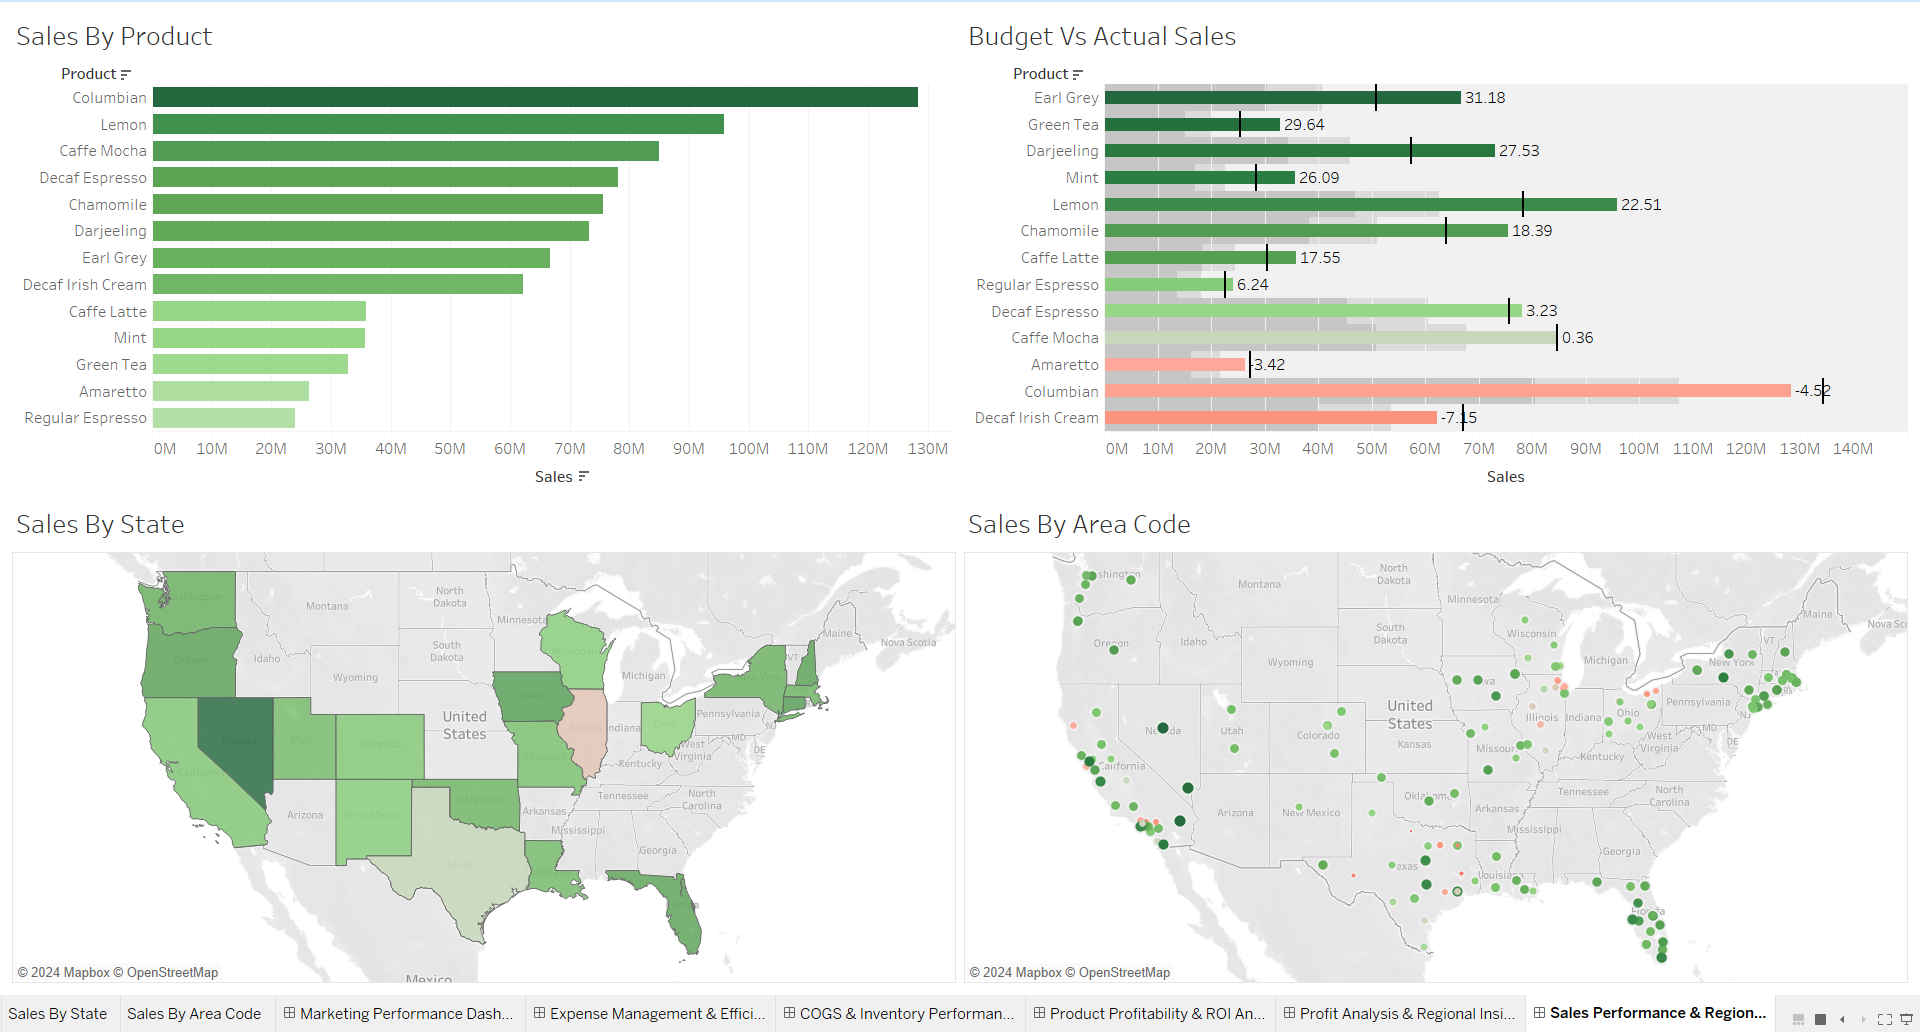

Layout of this report page (visuals, bound fields, positions):
{"tool":"tableau","page":{"name":"Sales Performance & Regional Distribution Dashboard","canvas":[1000,1000],"units":"permille","ordinal":5},"visuals":[{"type":"worksheet","title":"Sales By Product","mark":"Automatic","rows":["Product"],"cols":["Sales"],"box":[4.2,8.1,495.8,491.9]},{"type":"worksheet","title":"Sales Comparison","mark":"Automatic","rows":["Product"],"cols":["Sales"],"box":[500,8.1,495.8,491.9]},{"type":"worksheet","title":"Sales By State","mark":"Multipolygon","box":[4.2,500,495.8,492]},{"type":"worksheet","title":"Sales By Area Code","mark":"Automatic","box":[500,500,495.8,492]}]}

Visuals, with their boxes on the dashboard's canvas, which has no fixed pixel size, in thousandths of its width and height (x1, y1, x2, y2). These are canvas units, not pixel positions in the 1920x1032 screenshot, which may show the page scaled, cropped or inside an application window:
"Sales By Product" worksheet: [x1=4, y1=8, x2=500, y2=500]
"Sales Comparison" worksheet: [x1=500, y1=8, x2=996, y2=500]
"Sales By State" worksheet (Multipolygon marks): [x1=4, y1=500, x2=500, y2=992]
"Sales By Area Code" worksheet: [x1=500, y1=500, x2=996, y2=992]
